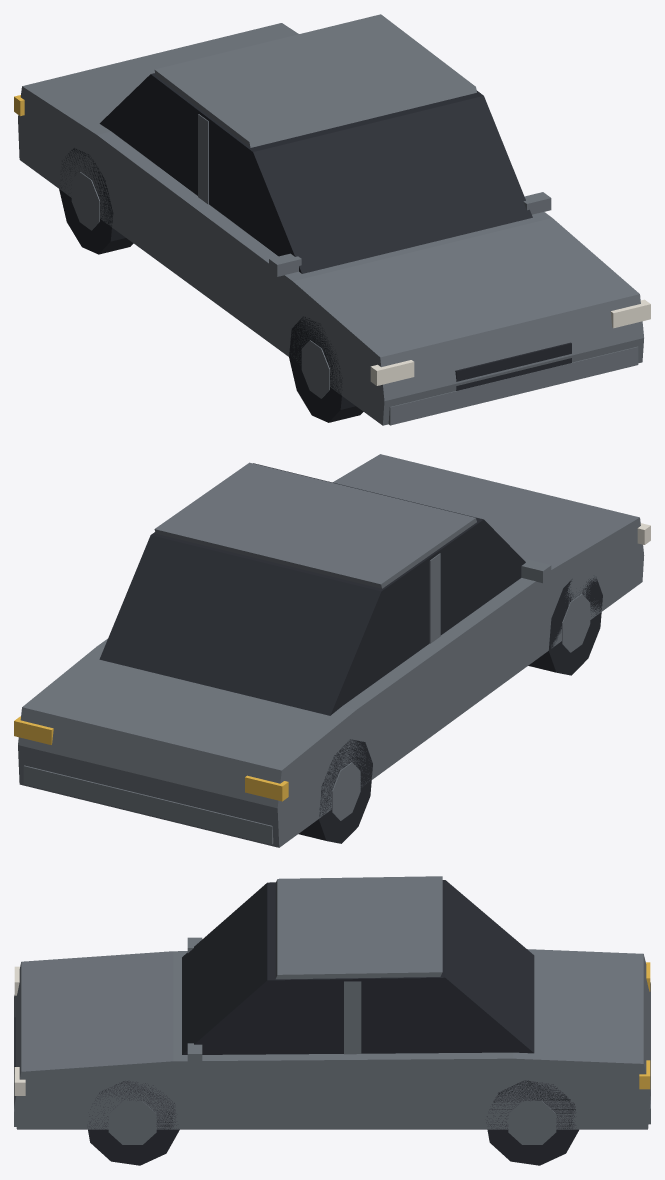
File: car_sedan_grey.glb
3 renders of one model, top to bottom at view 1: azimuth 30°, elevation 25°; view 2: azimuth 150°, elevation 25°; view 3: azimuth 270°, elevation 25°, orthographic. The views are drawn at different scales.
Parts seen in each view (by area): view 1: car_sedan_grey_mesh; view 2: car_sedan_grey_mesh; view 3: car_sedan_grey_mesh.
Part boxes in pixels (bbox=[...]): car_sedan_grey_mesh: bbox=[14, 14, 650, 425]; car_sedan_grey_mesh: bbox=[14, 454, 650, 847]; car_sedan_grey_mesh: bbox=[14, 876, 650, 1165].
Size of the model in its own units: 1.9 by 1.42 by 4.4.
1 material, 1 textured.
